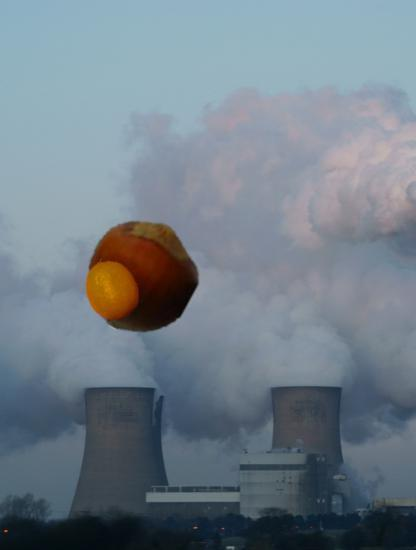Lemon: (80, 257, 143, 320)
Nut: (83, 219, 200, 336)
